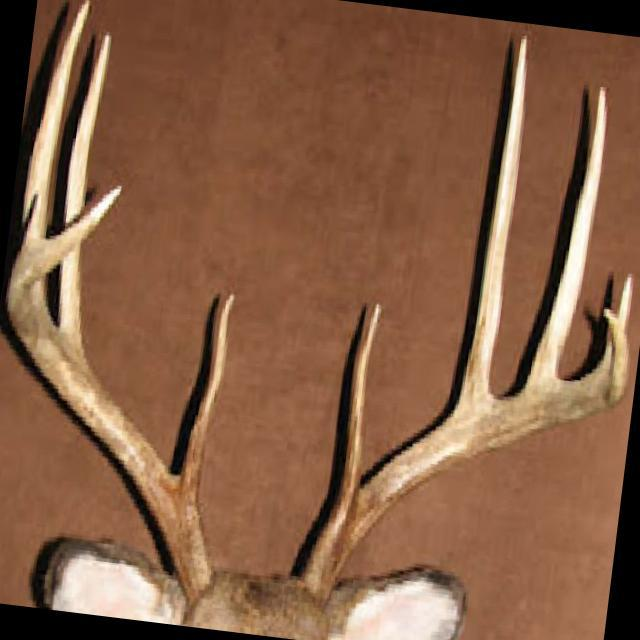E1: (18, 191, 41, 254)
L-F: (288, 306, 630, 610)
L-G1: (337, 300, 383, 497)
L-G2: (458, 31, 528, 404)
L-G3: (527, 89, 607, 383)
R-F: (5, 184, 213, 604)
R-G1: (180, 290, 237, 505)
